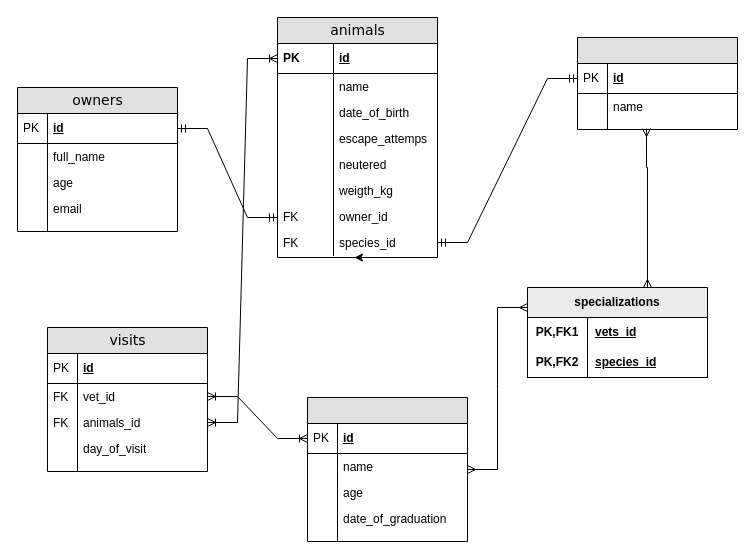
Some shapes in this 755 by 559 pixel diagram are drawn without their labels. The shapes that lost their labels are listed below. From the top down, each one's box as (x1, y1, x2, y2) in pixels, then its label:
(576, 36, 738, 130): species
(306, 396, 468, 542): vets
